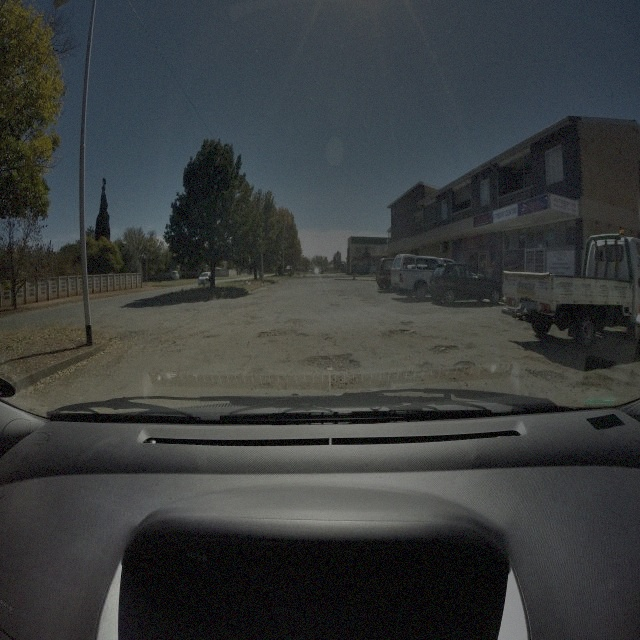pothole: (299, 350, 362, 372), (526, 365, 569, 386), (257, 323, 308, 339), (427, 342, 459, 355), (402, 317, 428, 329), (390, 325, 418, 335), (454, 360, 475, 371), (324, 335, 332, 343)
